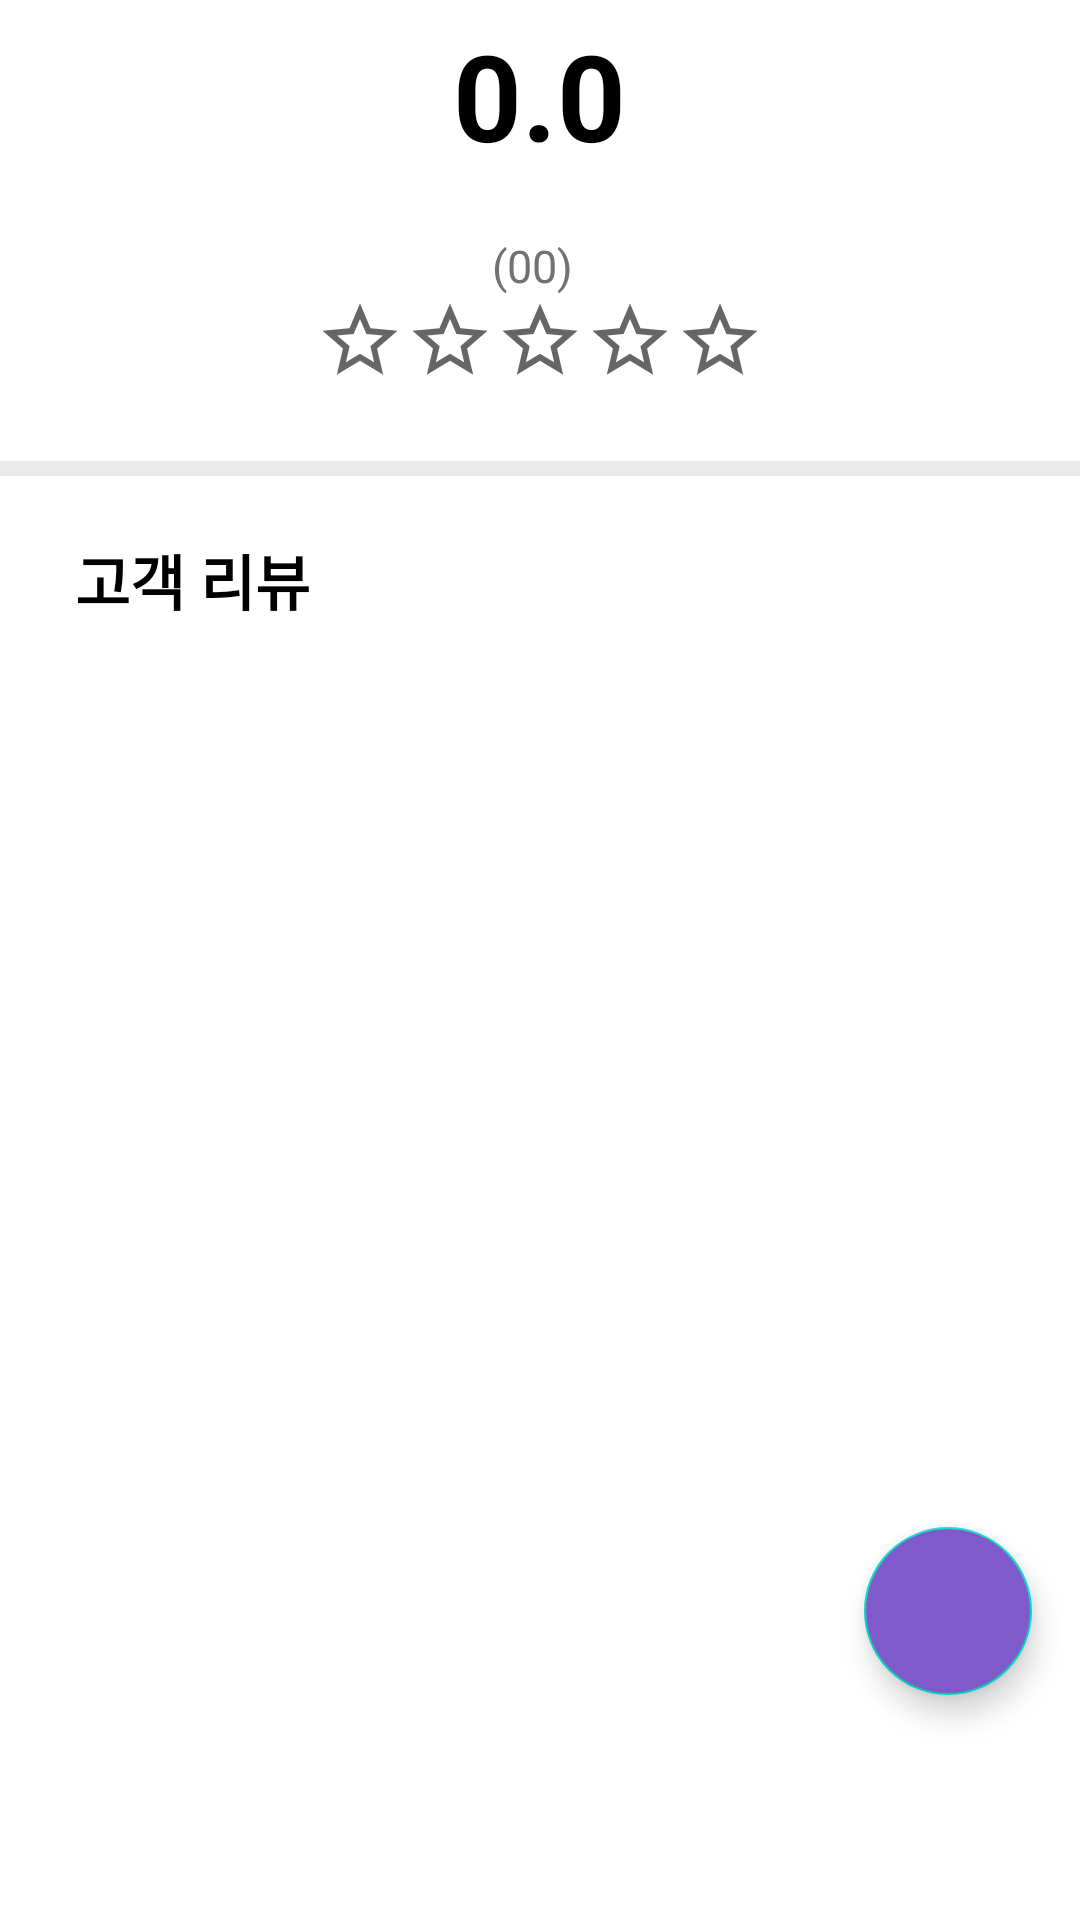

Point at icon controls on the screen. Image size 1080x1920, points as [x,y].
star border: [360,339], [450,339], [540,339], [630,339], [720,339]
